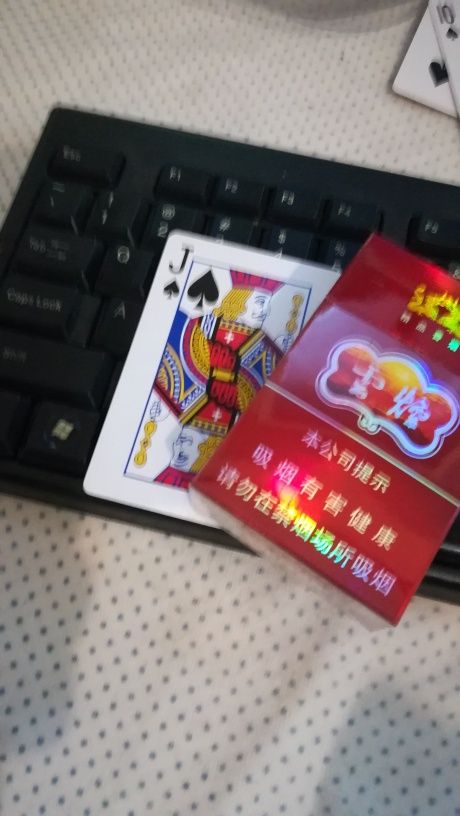ht j: (77, 227, 342, 532)
